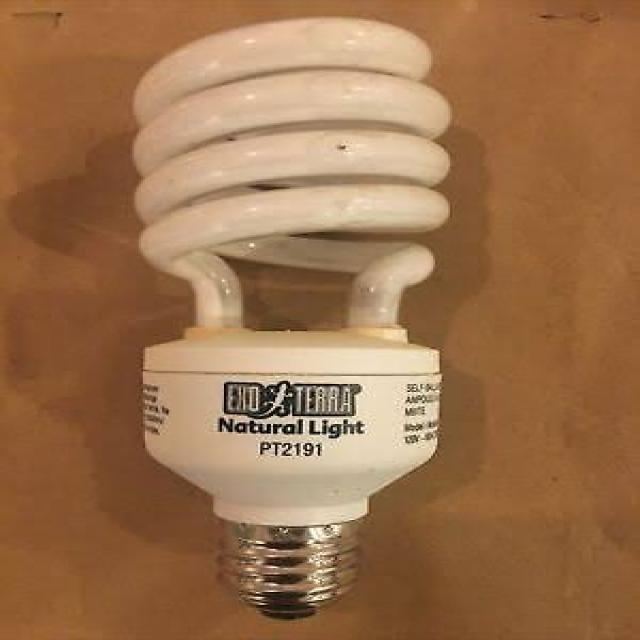bulb: (96, 26, 477, 640)
